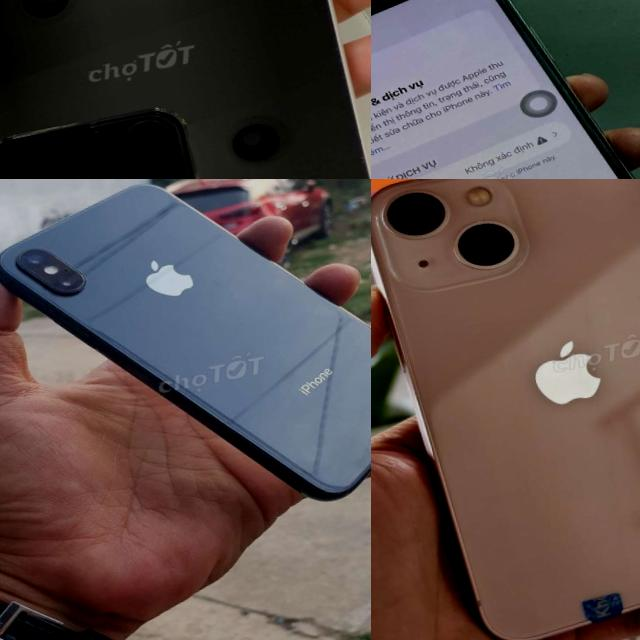gen_11: (371, 0, 640, 179)
gen_12_13: (371, 179, 640, 640)
gen_14: (0, 0, 371, 179)
gen_x_xs: (0, 187, 371, 500)
